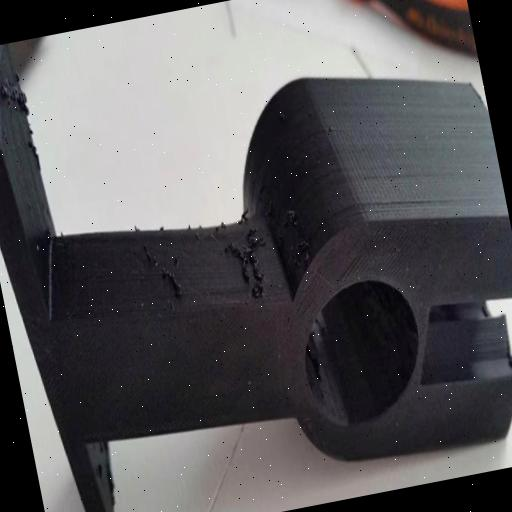blobs: (221, 216, 276, 306), (0, 68, 45, 177), (138, 224, 190, 316), (277, 200, 314, 272)
